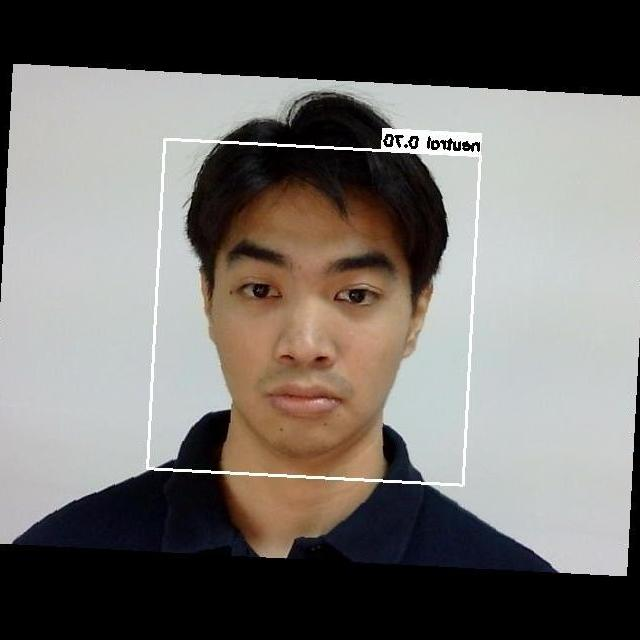Fear: (194, 218, 426, 441)
